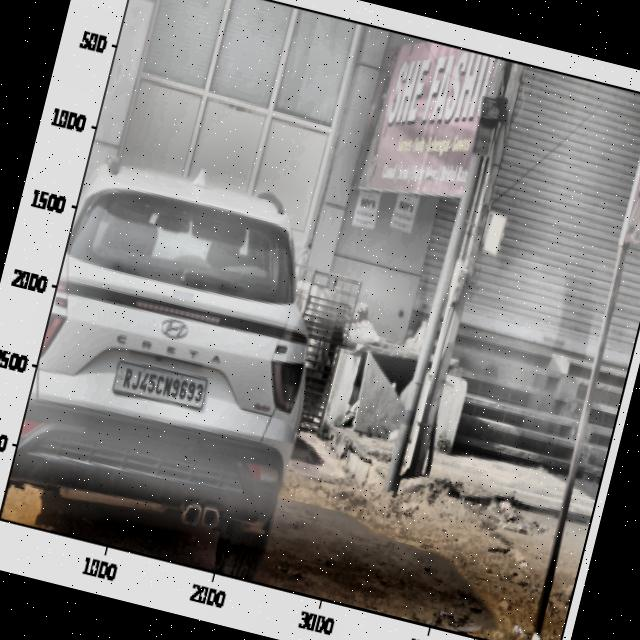license_plate: (114, 358, 208, 415)
